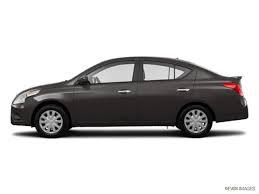car: (8, 55, 245, 133)
